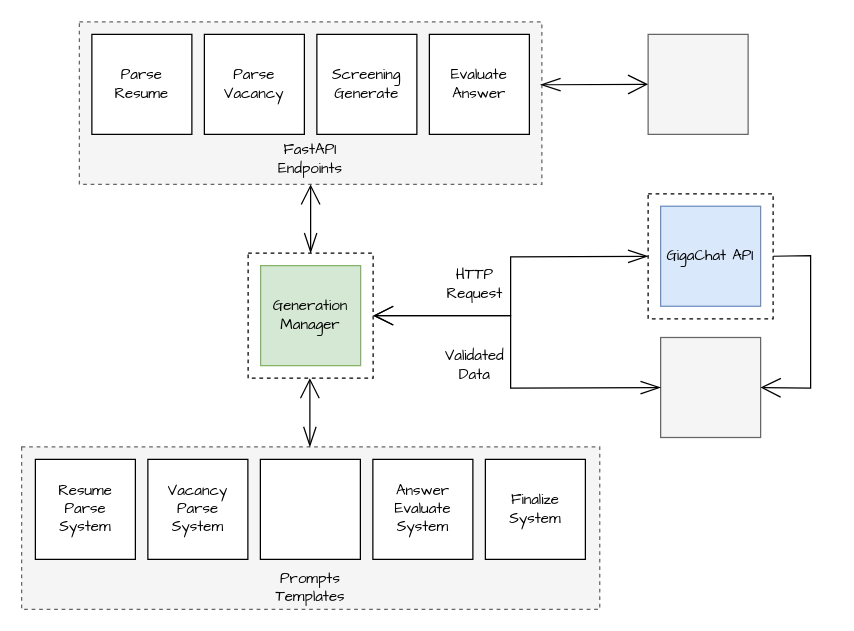
Some shapes in this 854 by 631 pixel diagram are drawn without their labels. Each missing label, with the box of its shape:
PDF Text Extraction: (647, 33, 748, 134)
Retry Logic + JSON Validation: (659, 336, 761, 438)
Screening System: (259, 458, 360, 559)
